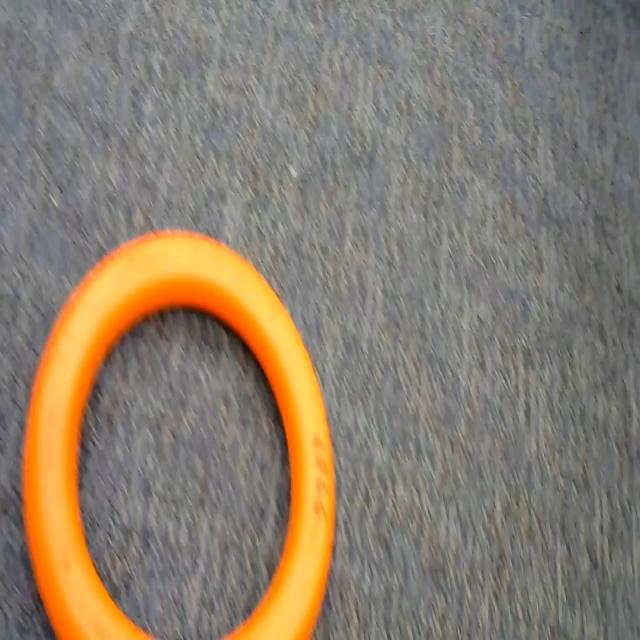note: (17, 193, 364, 640)
